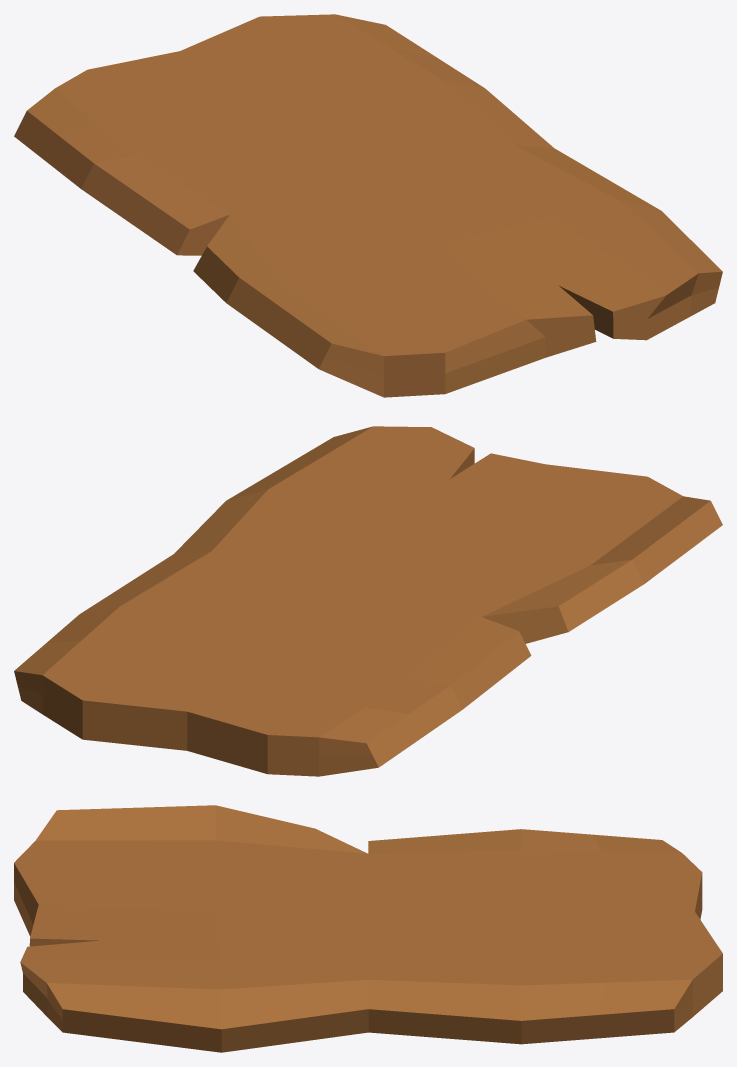
3 renders of one model, top to bottom at view 1: azimuth 30°, elevation 25°; view 2: azimuth 150°, elevation 25°; view 3: azimuth 270°, elevation 25°, orthographic. The views are drawn at different scales.
Parts seen in each view (by area): view 1: Cube.002; view 2: Cube.002; view 3: Cube.002.
Boxes of the visible parts, box(x1,y1,x2,y2) form: Cube.002: box(14, 14, 722, 397); Cube.002: box(14, 426, 722, 776); Cube.002: box(14, 805, 722, 1052).
Bounding box in the file's own units: 246 × 36.99 × 380.
Materials: 1 (1 with a texture image).
